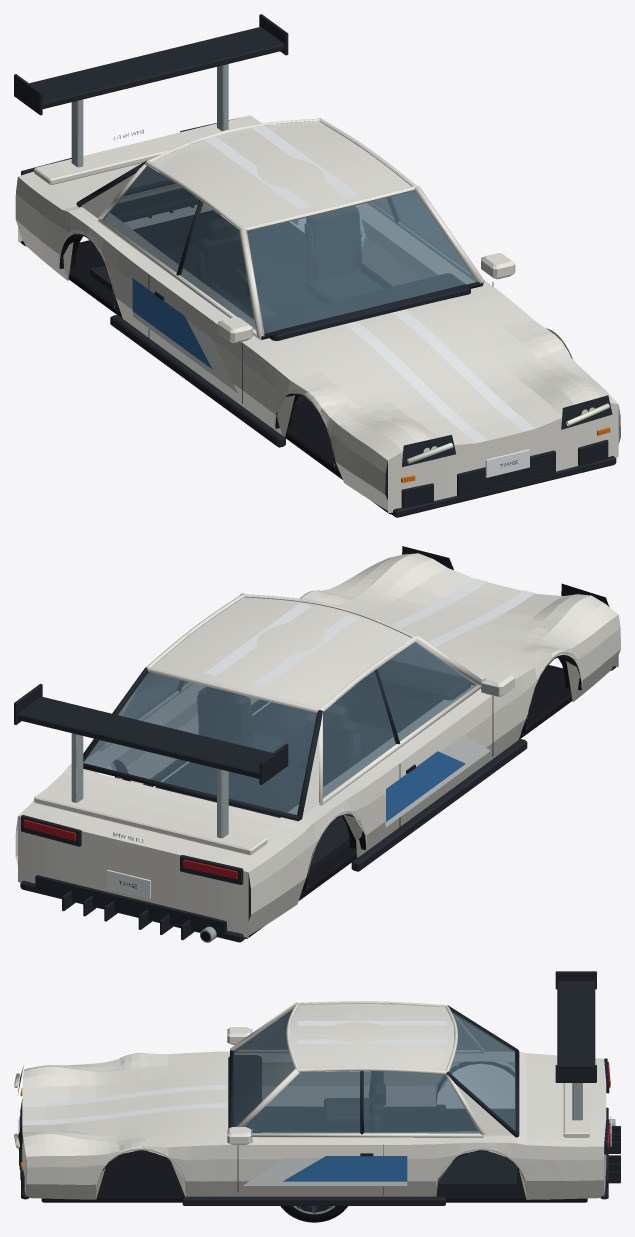
3 renders of one model, top to bottom at view 1: azimuth 30°, elevation 25°; view 2: azimuth 150°, elevation 25°; view 3: azimuth 270°, elevation 25°, orthographic. The views are drawn at different scales.
Visible parts, largest first — view 1: LOD0_body, LOD0_cabin, LOD0_glass, LOD1_glass, LOD1_body, LOD0_hood, LOD1_hood, LOD1_spoiler_gt, LOD1_cabin, LOD0_spoiler_gt, LOD0_vinyl_twin, LOD0_vinyl_apex (+3 smaller); view 2: LOD0_body, LOD0_cabin, LOD0_glass, LOD1_glass, LOD1_body, LOD1_hood, LOD0_hood, LOD1_spoiler_gt, LOD1_cabin, LOD0_spoiler_gt, LOD0_vinyl_apex, LOD1_spoiler_stock (+3 smaller); view 3: LOD0_body, LOD0_cabin, LOD1_body, LOD0_glass, LOD1_glass, LOD0_hood, LOD1_hood, LOD1_cabin, LOD0_vinyl_apex, LOD1_spoiler_gt, LOD0_vinyl_twin, LOD0_spoiler_gt (+5 smaller).
Boxes of the visible parts, left/top/right/bottom form: LOD0_body: left=15, top=117, right=620, bottom=517; LOD0_cabin: left=76, top=118, right=484, bottom=403; LOD0_glass: left=103, top=166, right=476, bottom=333; LOD1_glass: left=104, top=166, right=475, bottom=333; LOD1_body: left=16, top=131, right=620, bottom=517; LOD0_hood: left=264, top=290, right=600, bottom=450; LOD1_hood: left=289, top=300, right=577, bottom=444; LOD1_spoiler_gt: left=18, top=27, right=288, bottom=167; LOD1_cabin: left=76, top=118, right=470, bottom=402; LOD0_spoiler_gt: left=14, top=14, right=288, bottom=167; LOD0_vinyl_twin: left=204, top=125, right=519, bottom=439; LOD0_vinyl_apex: left=132, top=278, right=237, bottom=392; LOD0_body: left=16, top=546, right=620, bottom=942; LOD0_cabin: left=83, top=593, right=481, bottom=879; LOD0_glass: left=83, top=642, right=475, bottom=814; LOD1_glass: left=83, top=642, right=476, bottom=814; LOD1_body: left=15, top=571, right=620, bottom=942; LOD1_hood: left=337, top=559, right=577, bottom=668; LOD0_hood: left=319, top=553, right=604, bottom=687; LOD1_spoiler_gt: left=17, top=684, right=272, bottom=837; LOD1_cabin: left=83, top=593, right=480, bottom=879; LOD0_spoiler_gt: left=14, top=684, right=288, bottom=838; LOD0_vinyl_apex: left=385, top=734, right=490, bottom=827; LOD1_spoiler_stock: left=34, top=786, right=267, bottom=855; LOD0_body: left=14, top=1027, right=620, bottom=1205; LOD0_cabin: left=228, top=1001, right=519, bottom=1188; LOD1_body: left=15, top=1027, right=615, bottom=1205; LOD0_glass: left=233, top=1009, right=515, bottom=1133; LOD1_glass: left=233, top=1009, right=515, bottom=1133; LOD0_hood: left=22, top=1056, right=228, bottom=1147; LOD1_hood: left=22, top=1062, right=217, bottom=1140; LOD1_cabin: left=229, top=1002, right=516, bottom=1188; LOD0_vinyl_apex: left=243, top=1156, right=407, bottom=1185; LOD1_spoiler_gt: left=555, top=972, right=596, bottom=1119; LOD0_vinyl_twin: left=33, top=1021, right=446, bottom=1124; LOD0_spoiler_gt: left=555, top=971, right=596, bottom=1120.
Size of the model in its own units: 2.15 by 1.85 by 5.09.
